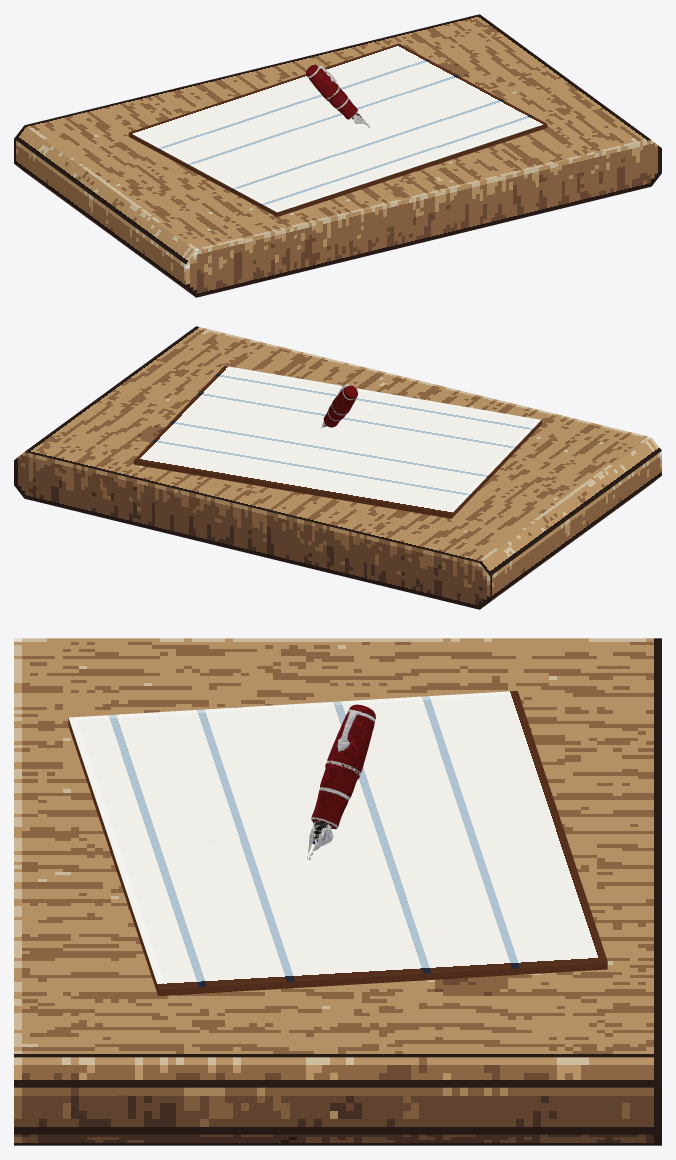
The model's file is pen.glb.
3 renders of one model, top to bottom at view 1: azimuth 30°, elevation 25°; view 2: azimuth 150°, elevation 25°; view 3: azimuth 270°, elevation 25°, orthographic. The views are drawn at different scales.
Visible parts, largest first — view 1: base, paper, model_m; view 2: base, paper, model_m; view 3: base, paper, model_m.
Boxes of the visible parts, x1=… form: base: x1=14, y1=14, x2=661, y2=297; paper: x1=128, y1=43, x2=547, y2=216; model_m: x1=306, y1=64, x2=369, y2=127; base: x1=14, y1=326, x2=661, y2=609; paper: x1=133, y1=365, x2=542, y2=518; model_m: x1=321, y1=384, x2=357, y2=428; base: x1=14, y1=638, x2=661, y2=1145; paper: x1=68, y1=691, x2=607, y2=996; model_m: x1=307, y1=704, x2=375, y2=860.
Size of the model in its own units: 32 by 7.3 by 20.
Materials: 2 (2 with a texture image).
